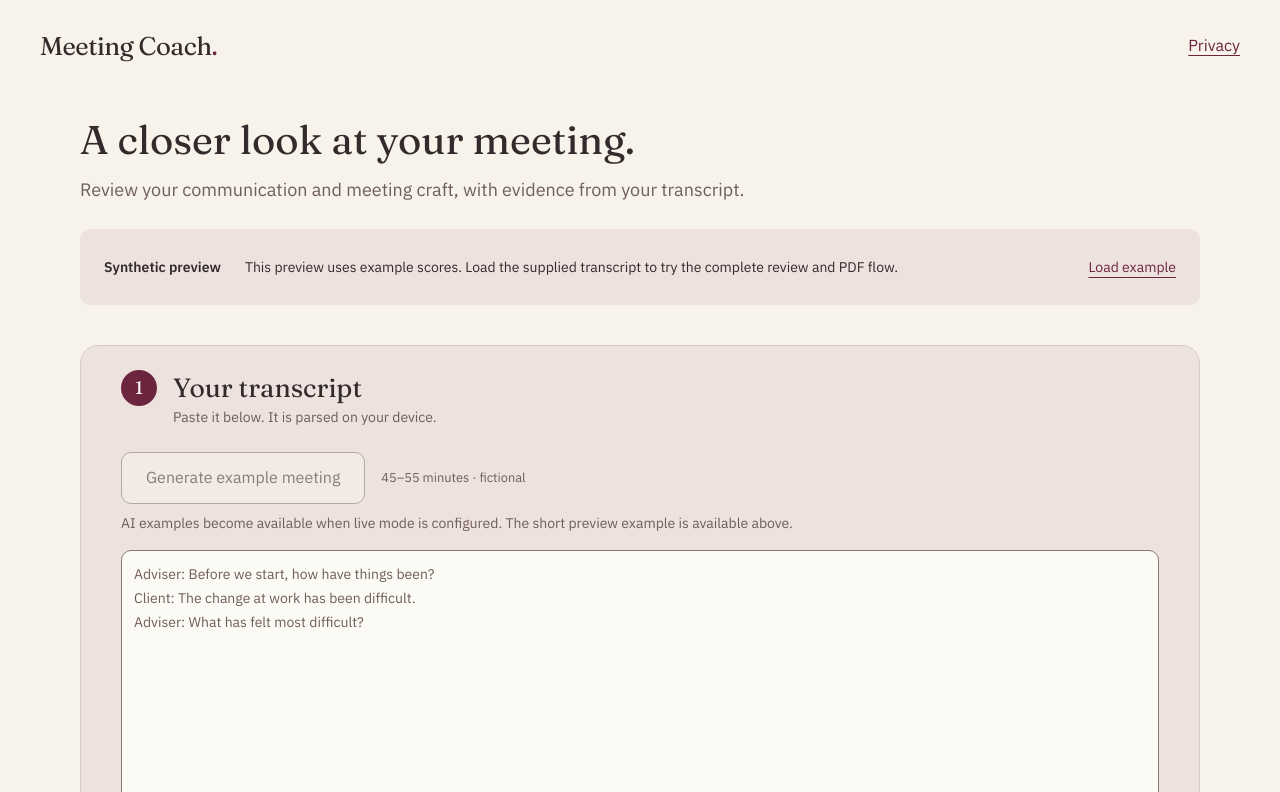
Test: cancels a request without replacing text or accepting a late response
Click the button "Load example" at [1132, 267], box [1088,245,1176,289]
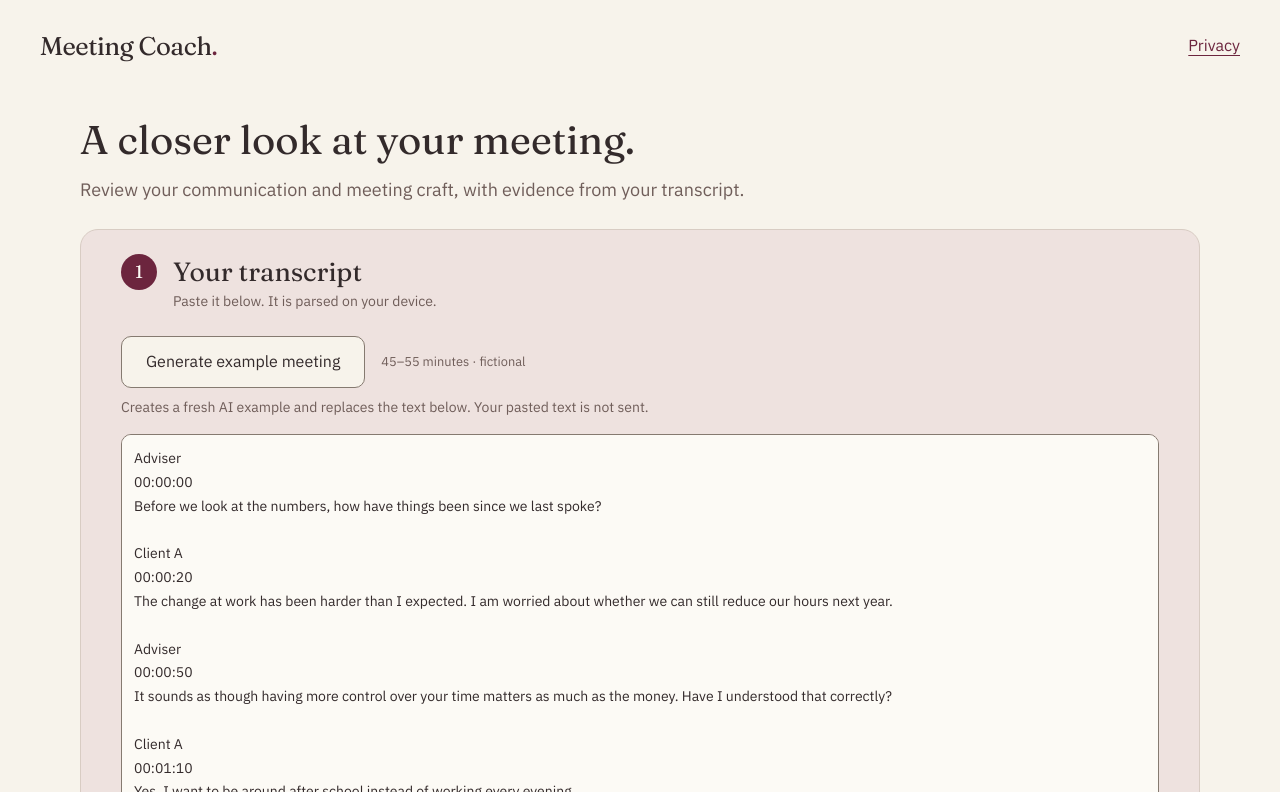
Click the button "Generate example meeting" at [243, 362], box [121,336,365,388]
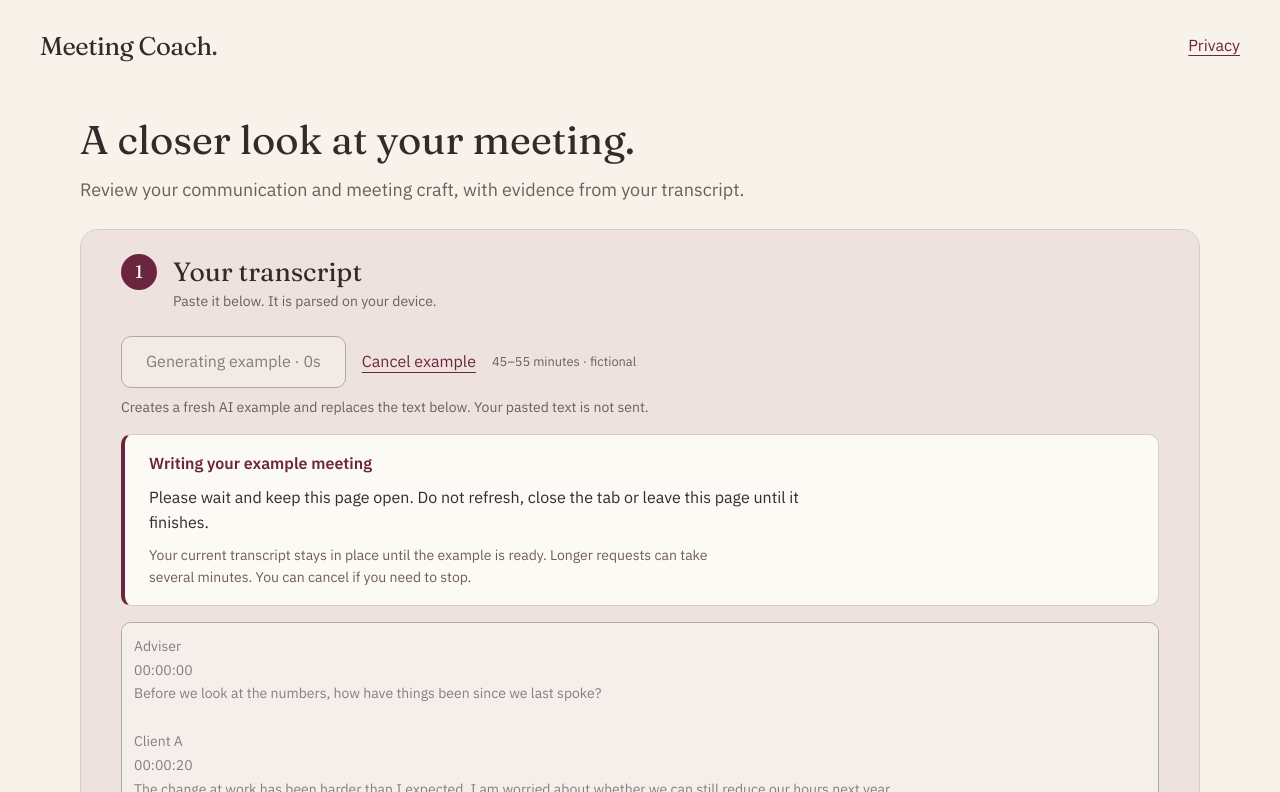
Result: the button "Generating example · 0s" is disabled at [121,336,346,388]
Result: the message with class "waiting-notice" shows "Do not refresh, close the tab or leave this page" at [149,487,799,532]
Click the button "Cancel example" at [419, 362], box [362,340,476,384]
(page scrolled)
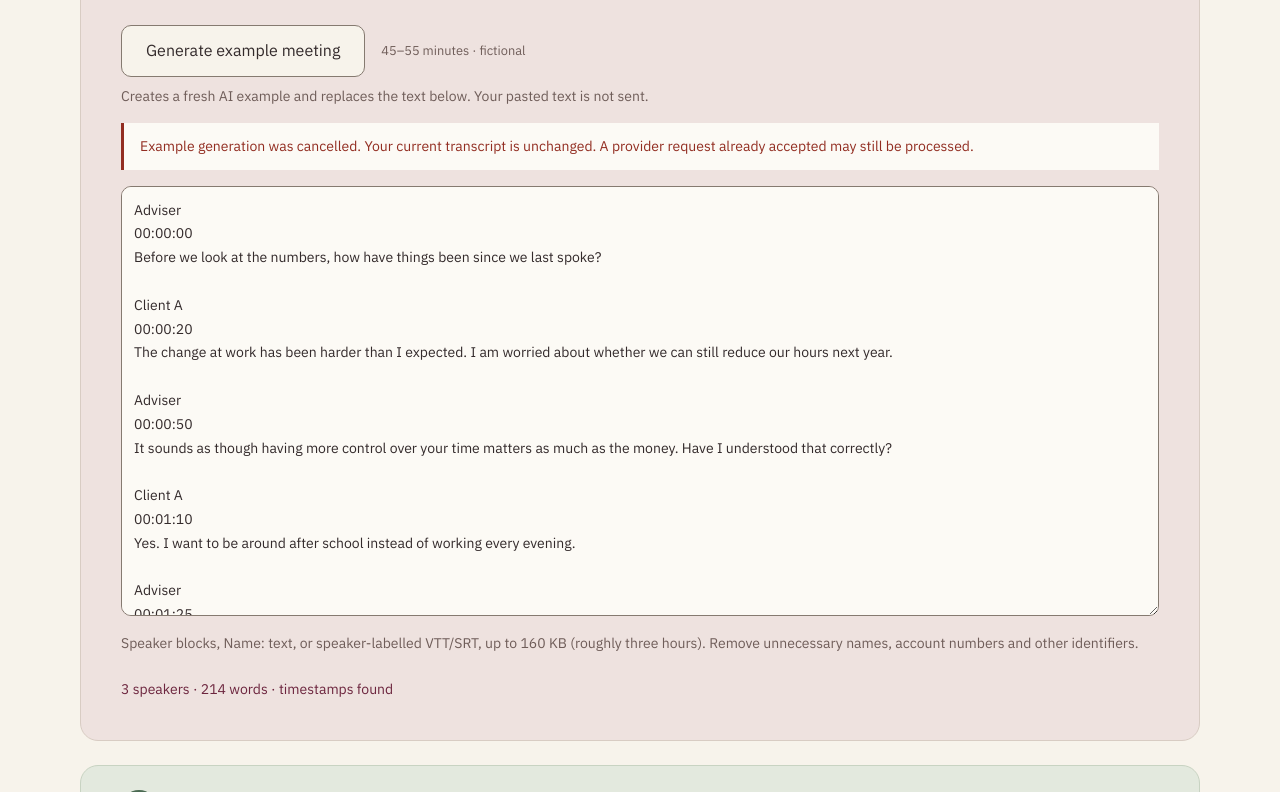
Result: the message shows "cancelled" at [140,137,974,155]
Result: the message with class "waiting-notice" is gone
